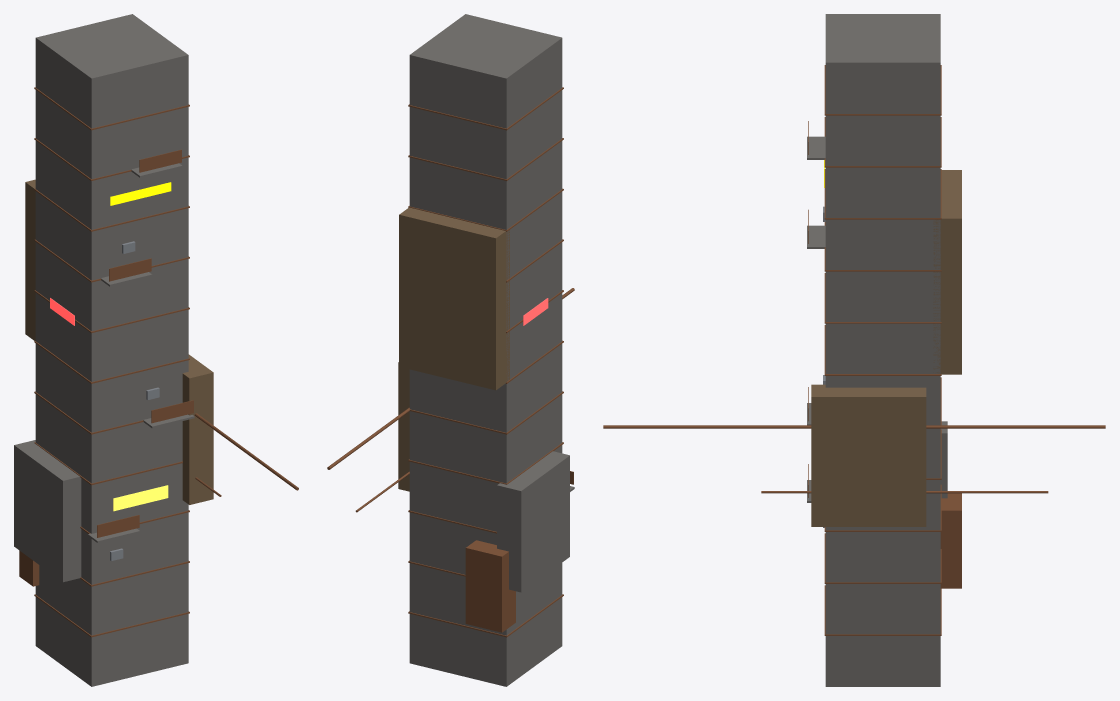
Rendered from SLUM_BLD_StackedBlock_LG.glb.
The picture shows the model from 3 angles, left to right: view 1: azimuth 30°, elevation 25°; view 2: azimuth 150°, elevation 25°; view 3: azimuth 270°, elevation 25°; orthographic projection. The views are drawn at different scales.
Visible parts, largest first — view 1: SLUM_BLD_StackedBlock_LG; view 2: SLUM_BLD_StackedBlock_LG; view 3: SLUM_BLD_StackedBlock_LG.
Boxes of the visible parts, bbox=[...] form: SLUM_BLD_StackedBlock_LG: bbox=[14, 14, 298, 686]; SLUM_BLD_StackedBlock_LG: bbox=[327, 14, 574, 686]; SLUM_BLD_StackedBlock_LG: bbox=[603, 14, 1105, 686].
Size of the model in its own units: 11 by 48 by 35.
